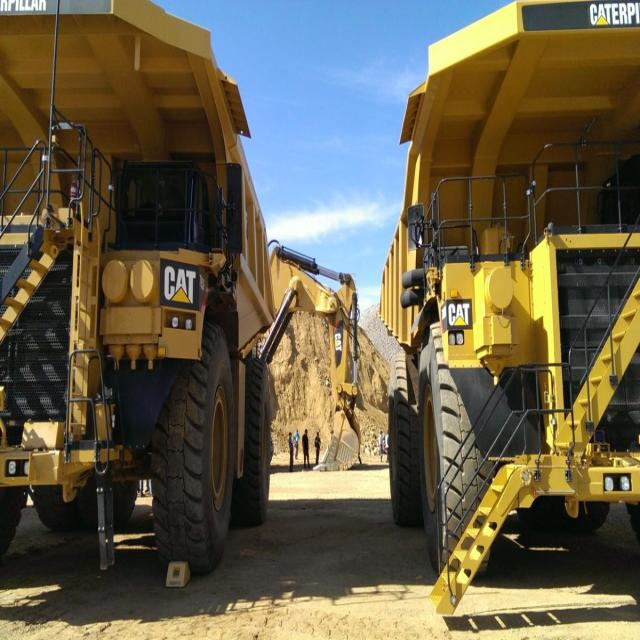dump_truck: (376, 2, 640, 639), (6, 0, 276, 578)
excavator: (267, 229, 370, 491)
